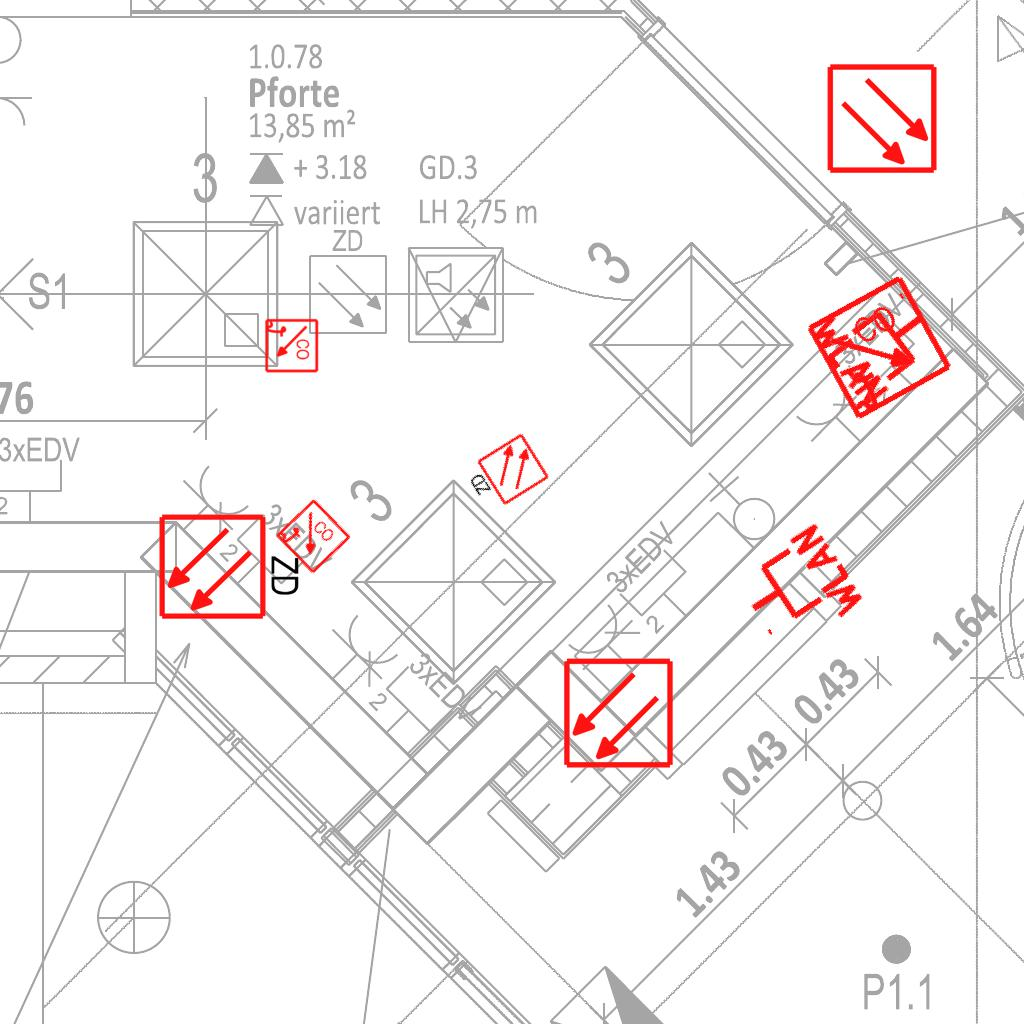RMO_Rauchmelder_optischer: (562, 657, 675, 770), (826, 62, 939, 175)
ROA_Rauchmelder_optisch_mit_Signalgeber_(Sockelsirene): (803, 271, 958, 426), (273, 497, 353, 577), (263, 318, 319, 374)
WLAN: (803, 266, 950, 414), (726, 517, 871, 663)
ZD_Melder_in_Zwischendecke_mit_Revisionsoeffnung_mind_40_x_40_cm: (157, 508, 306, 622), (459, 431, 552, 519)
